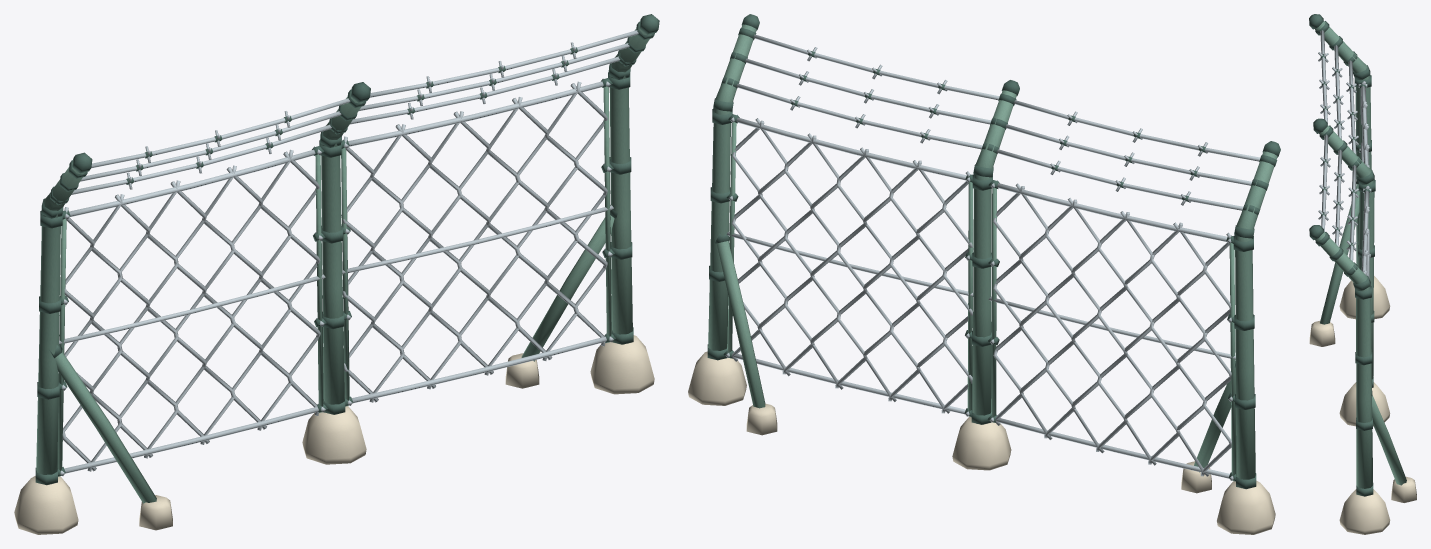
The model's file is 07-valla.fbx.
The picture shows the model from 3 angles, left to right: view 1: azimuth 30°, elevation 25°; view 2: azimuth 150°, elevation 25°; view 3: azimuth 270°, elevation 25°; orthographic projection. The views are drawn at different scales.
Parts seen in each view (by area): view 1: Fence_ChainLink_Mesh, Fence_Posts_And_Rails, Fence_Concrete_Bases, Fence_Clamps_And_Caps; view 2: Fence_ChainLink_Mesh, Fence_Posts_And_Rails, Fence_Concrete_Bases, Fence_Clamps_And_Caps; view 3: Fence_Posts_And_Rails, Fence_Concrete_Bases, Fence_ChainLink_Mesh, Fence_Clamps_And_Caps.
Part boxes in pixels (x1,y1,x2,y2): Fence_ChainLink_Mesh: (59, 30, 638, 475); Fence_Posts_And_Rails: (36, 23, 651, 503); Fence_Concrete_Bases: (14, 335, 654, 534); Fence_Clamps_And_Caps: (35, 14, 659, 485); Fence_ChainLink_Mesh: (725, 34, 1260, 480); Fence_Posts_And_Rails: (708, 24, 1277, 479); Fence_Concrete_Bases: (688, 351, 1275, 534); Fence_Clamps_And_Caps: (707, 14, 1280, 489); Fence_Posts_And_Rails: (1315, 21, 1406, 488); Fence_Concrete_Bases: (1309, 276, 1416, 534); Fence_ChainLink_Mesh: (1318, 30, 1371, 278); Fence_Clamps_And_Caps: (1309, 14, 1375, 496).
Size of the model in its own units: 3.41 by 2.01 by 0.6595.
1 material, 1 textured.
